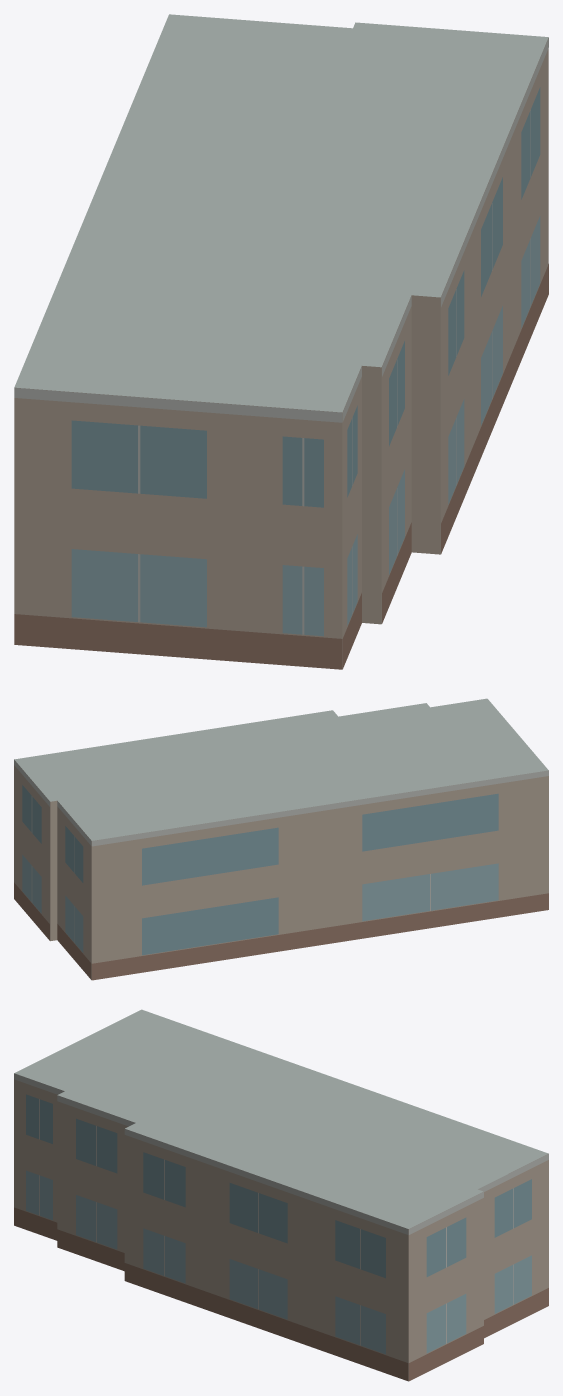
File: survey-upis-32700879.glb
3 renders of one model, top to bottom at view 1: azimuth 30°, elevation 25°; view 2: azimuth 150°, elevation 25°; view 3: azimuth 270°, elevation 25°, orthographic. The views are drawn at different scales.
Parts seen in each view (by area): view 1: survey-upis-32700879.tmp; view 2: survey-upis-32700879.tmp; view 3: survey-upis-32700879.tmp.
Part boxes in pixels (left/top/right/bottom): survey-upis-32700879.tmp: left=14, top=14, right=548, bottom=669; survey-upis-32700879.tmp: left=14, top=698, right=548, bottom=980; survey-upis-32700879.tmp: left=14, top=1009, right=548, bottom=1381.
Bounding box in the file's own units: 18.88 × 6.1 × 19.42.
